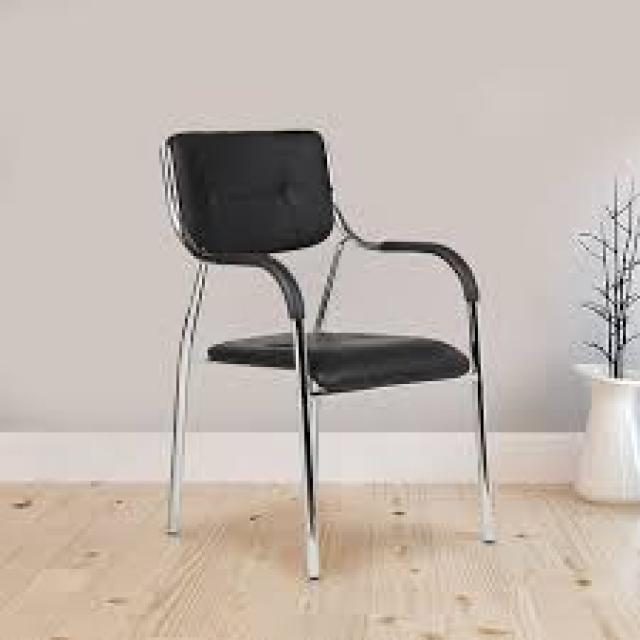chair: (155, 128, 494, 583)
